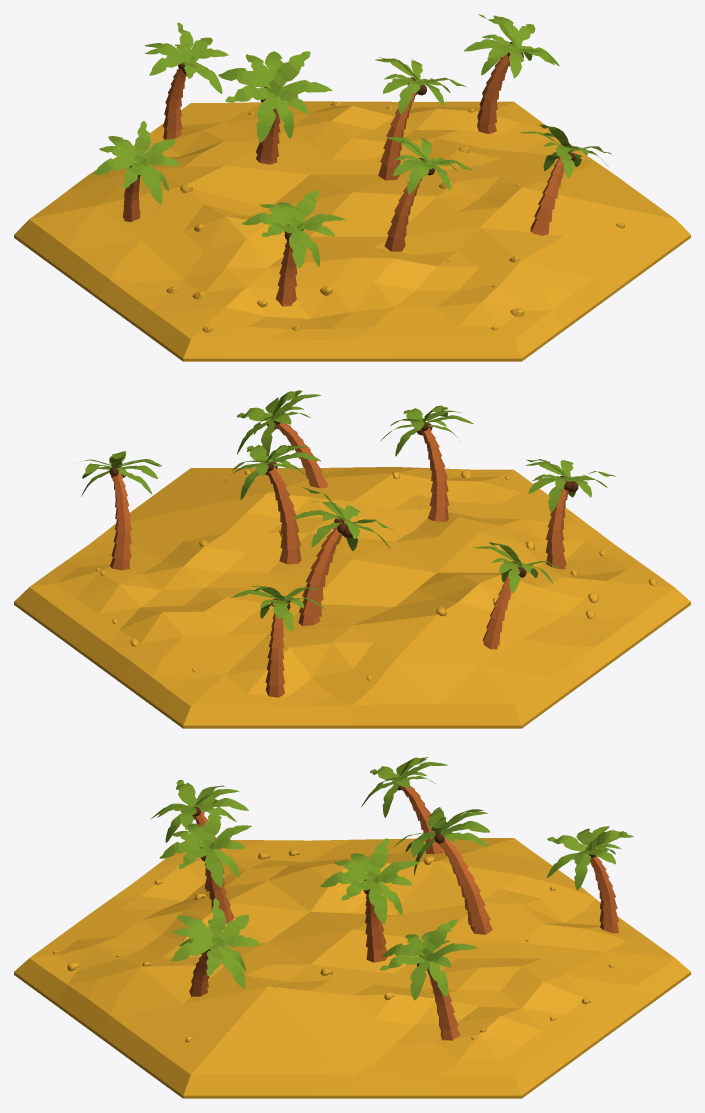
File: beach.glb
3 views of the same model, one above another, from view 1: azimuth 30°, elevation 25°; view 2: azimuth 150°, elevation 25°; view 3: azimuth 270°, elevation 25° (orthographic).
Parts seen in each view (by area): view 1: land, big_details; view 2: land, big_details, small_details; view 3: land, big_details.
Boxes of the visible parts, x1,y1,x2,y2 form: land: (14, 54, 690, 361); big_details: (93, 14, 611, 268); land: (14, 423, 690, 728); big_details: (80, 390, 616, 631); small_details: (109, 415, 578, 610); land: (14, 785, 690, 1098); big_details: (151, 757, 633, 1000).
Bounding box in the file's own units: 1.73 × 0.5135 × 2.
